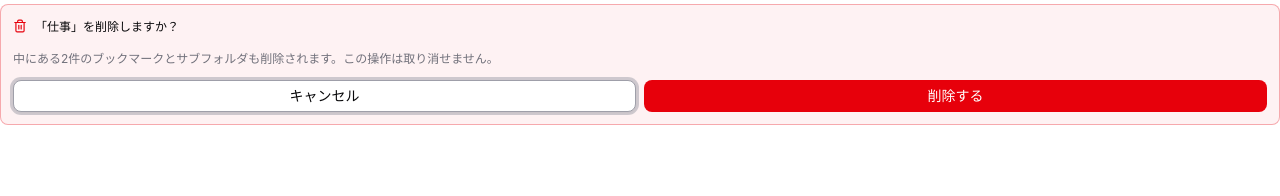
shadcnの削除確認画面 › 削除が失敗しても確認画面を閉じず、再試行できる
Click the button "削除する".
click(956, 96)  # box [644, 80, 1267, 112]
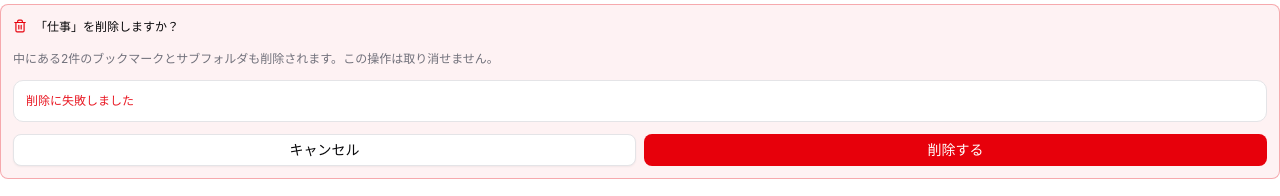
Expected: the button "削除する" is enabled, [644, 134, 1267, 166]
Expected: the message reads "削除に失敗しました", [26, 93, 134, 108]
